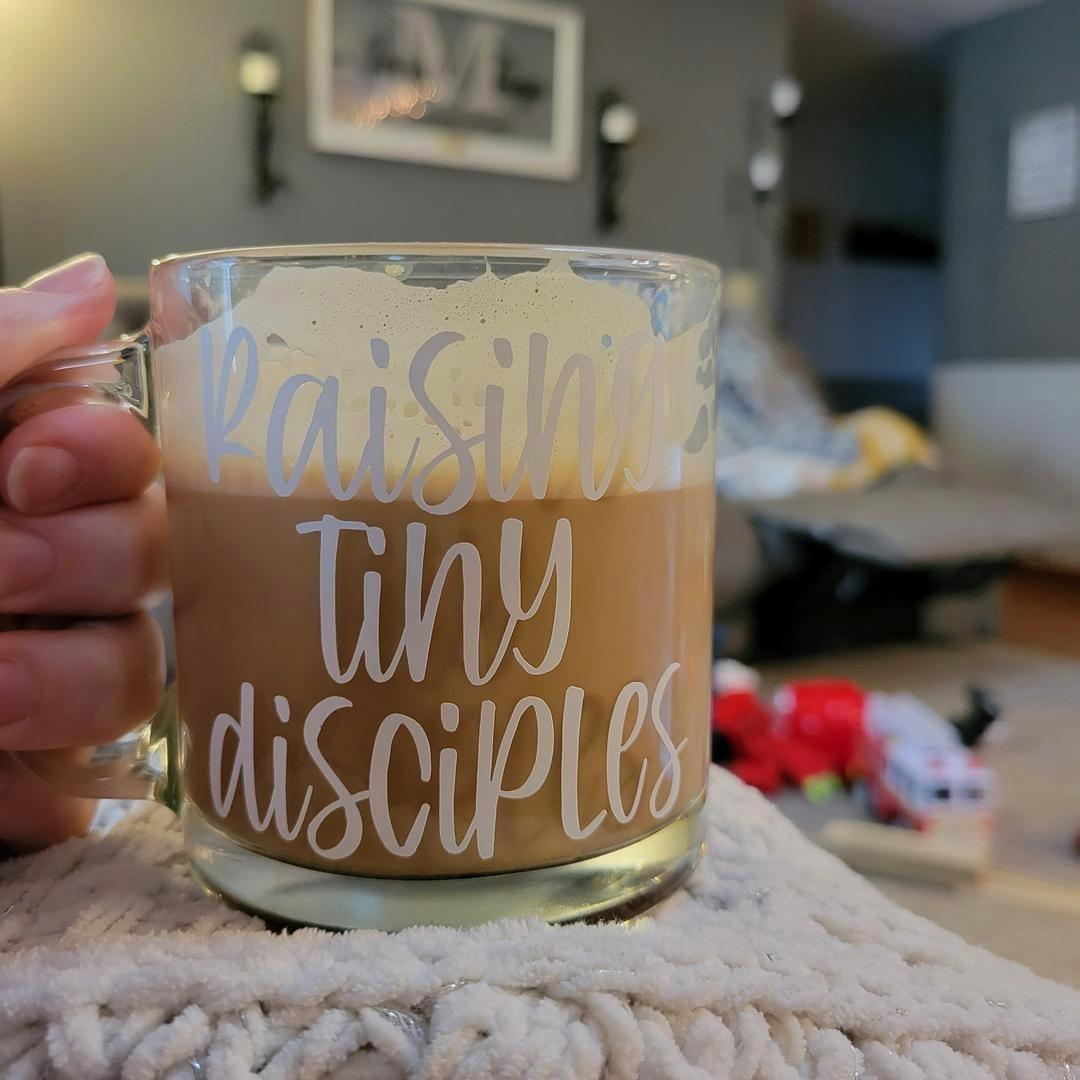glass-mug: (0, 235, 743, 960)
